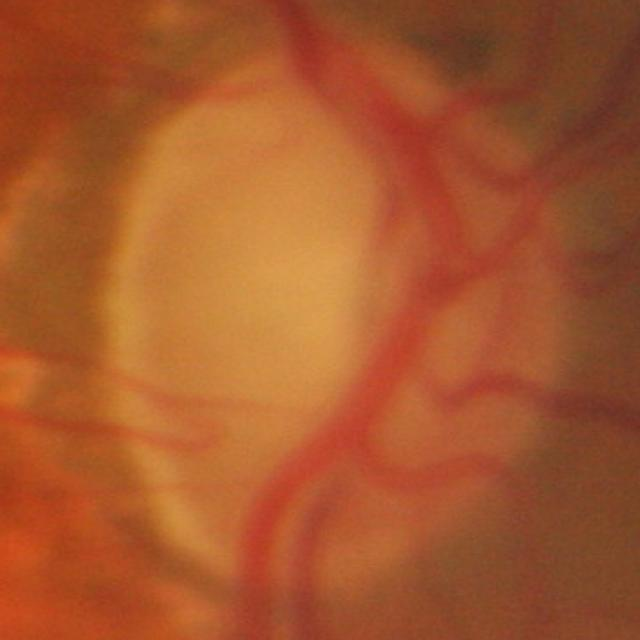OC: (301, 218, 489, 384)
OD: (114, 49, 573, 588)
